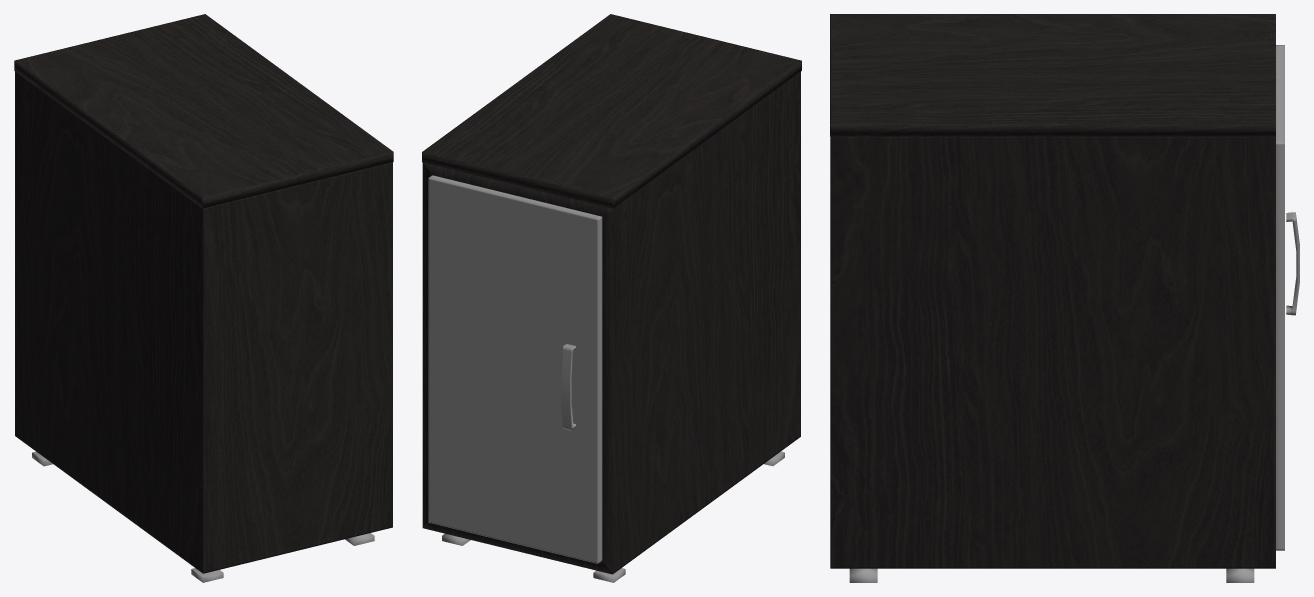
File: Table_Drawer_Openable.FBX
3 views of the same model, side by side, from view 1: azimuth 30°, elevation 25°; view 2: azimuth 150°, elevation 25°; view 3: azimuth 270°, elevation 25° (orthographic). The views are drawn at different scales.
Visible parts, largest first — view 1: Table_Drawer_Openable; view 2: Table_Drawer_Openable, Door; view 3: Table_Drawer_Openable, Door.
Boxes of the visible parts, <box> form: Table_Drawer_Openable: <box>14,14,393,582</box>; Table_Drawer_Openable: <box>422,14,801,582</box>; Door: <box>428,175,602,563</box>; Table_Drawer_Openable: <box>830,14,1275,582</box>; Door: <box>1276,45,1299,550</box>.
Size of the model in its own units: 39.24 by 77.09 by 70.62.
Materials: 2 (1 with a texture image).
